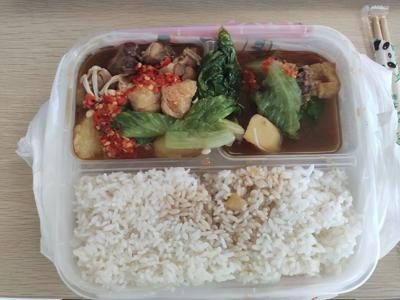rice: (73, 174, 367, 287)
ymc: (192, 36, 305, 164)
